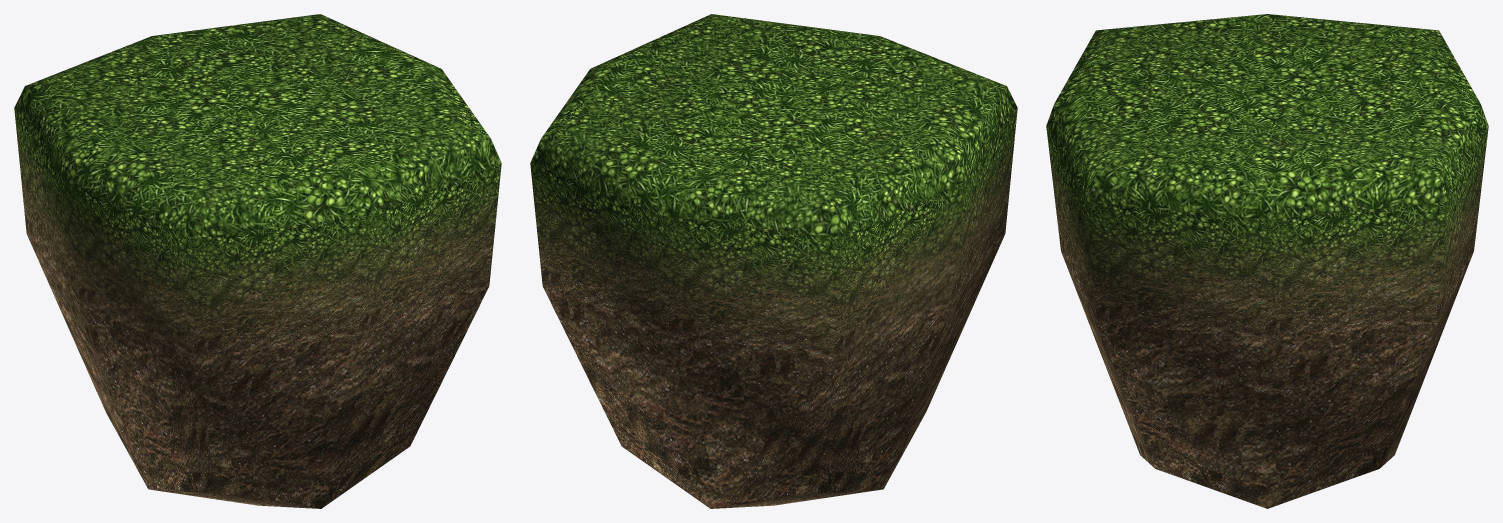
Rendered from FloatingIsland.fbx.
3 renders of one model, left to right at view 1: azimuth 30°, elevation 25°; view 2: azimuth 150°, elevation 25°; view 3: azimuth 270°, elevation 25°, orthographic.
Parts seen in each view (by area): view 1: pCube1; view 2: pCube1; view 3: pCube1.
Boxes of the visible parts, left/top/right/bottom form: pCube1: left=14, top=14, right=501, bottom=508; pCube1: left=530, top=14, right=1017, bottom=508; pCube1: left=1046, top=14, right=1488, bottom=508.
Size of the model in its own units: 1232 by 1240 by 1232.
